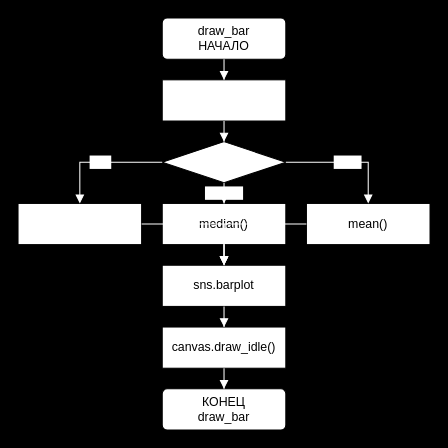
This 448x448 diagram has some shape labels left out. Each missing label, with the box of its shape:
agg_mode?: (161, 141, 286, 183)
groupby('zone')['cal']: (161, 79, 286, 121)
sum(): (17, 202, 142, 245)
